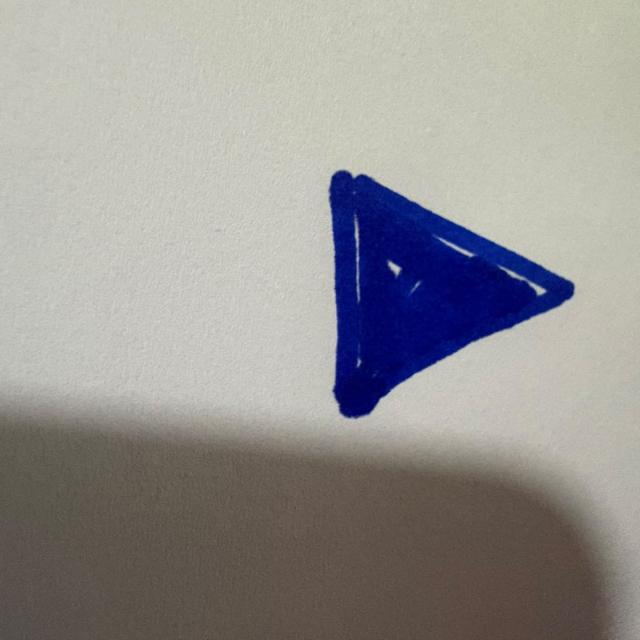Triangle: (329, 171, 573, 418)
